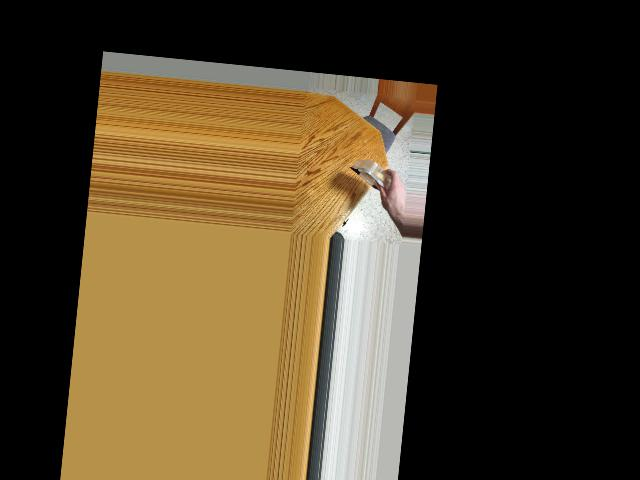cheese: (355, 147, 404, 208)
